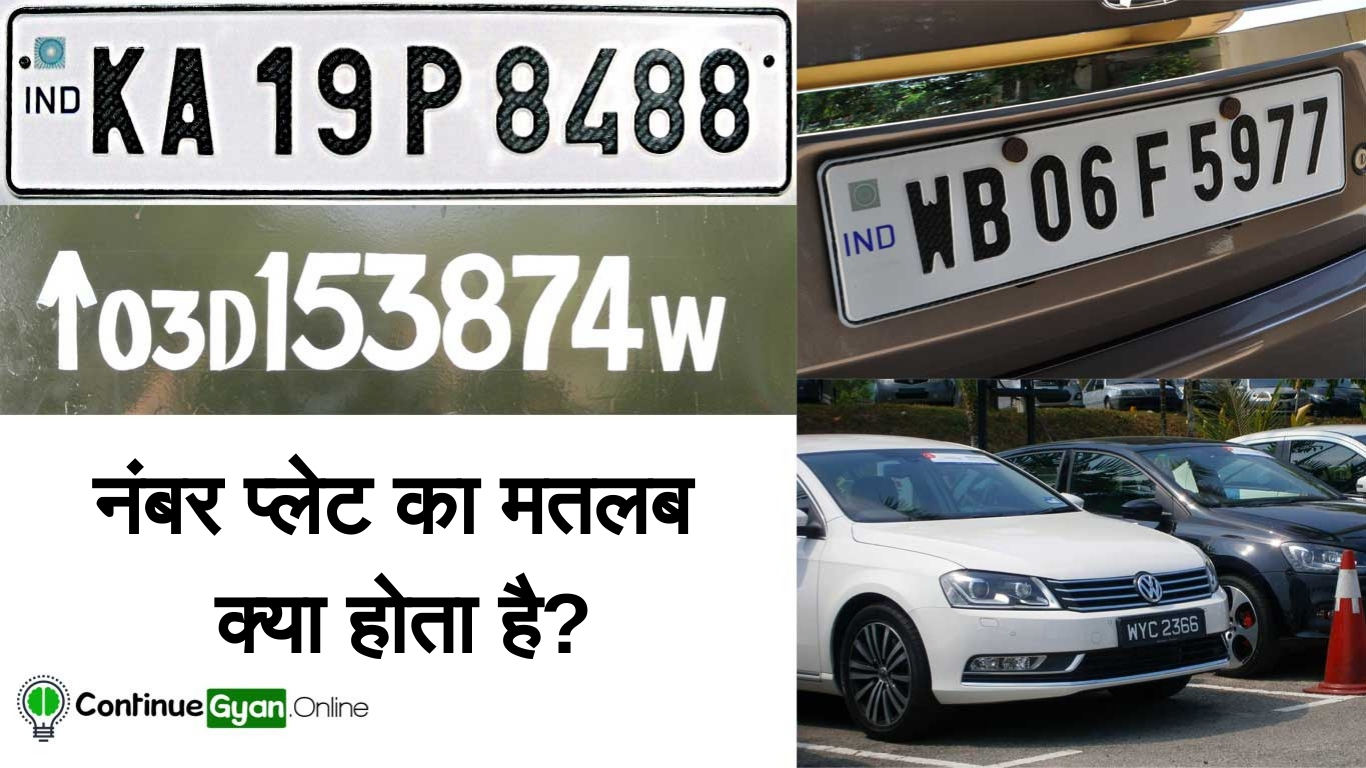number_plate: (5, 1, 792, 204), (819, 69, 1341, 322), (1113, 604, 1215, 652)
